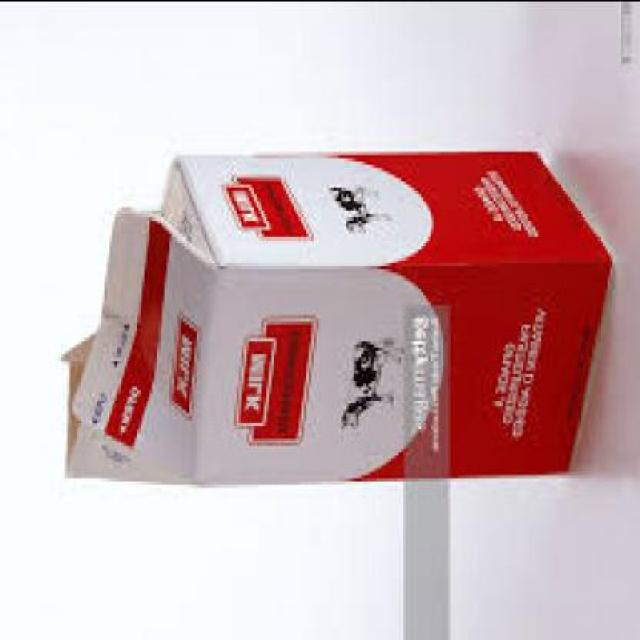CARDBOARD: (55, 150, 612, 473)
